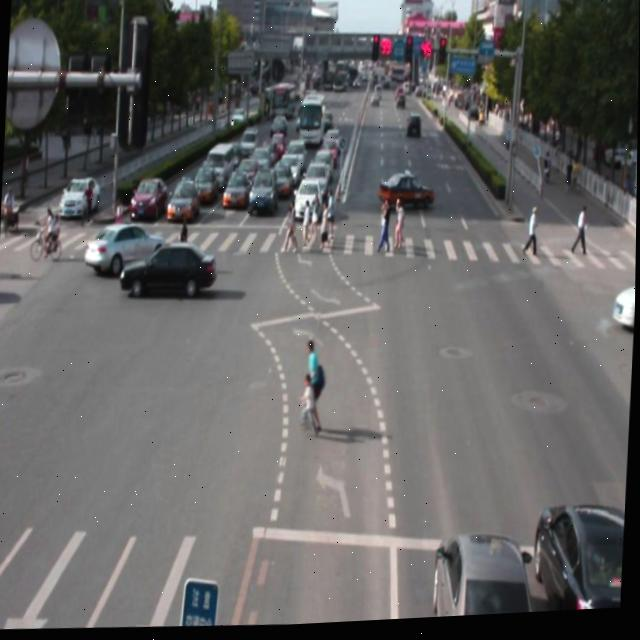car: (525, 493, 627, 618), (426, 523, 535, 622), (120, 240, 219, 303), (83, 219, 166, 278)
